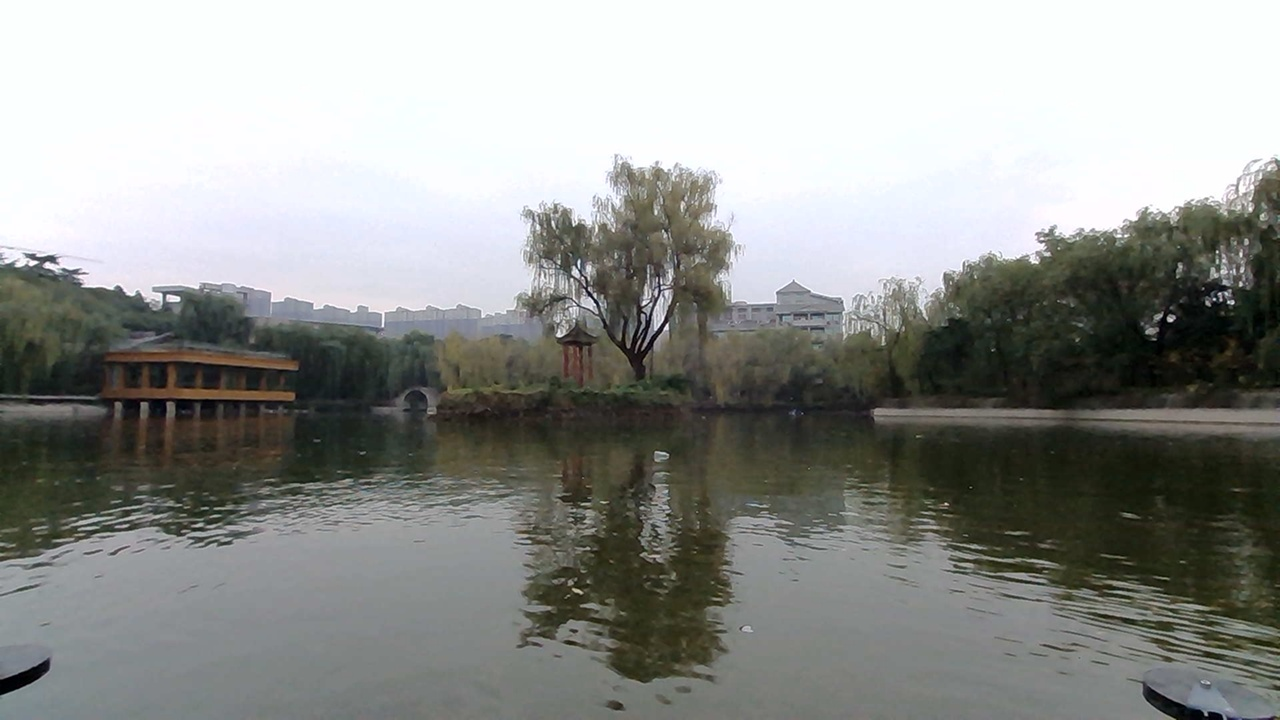bottle: (643, 434, 698, 466)
